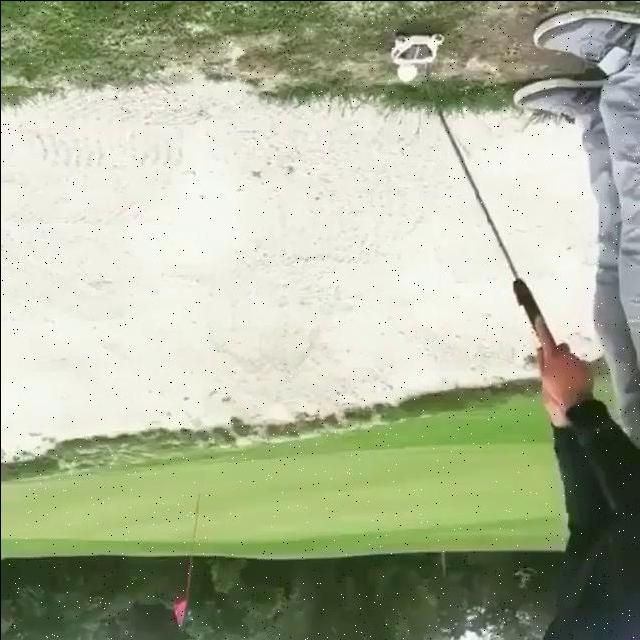golf ball: (395, 62, 412, 80)
golf club-handle: (387, 30, 552, 356)
golf club-head: (390, 34, 446, 66)
